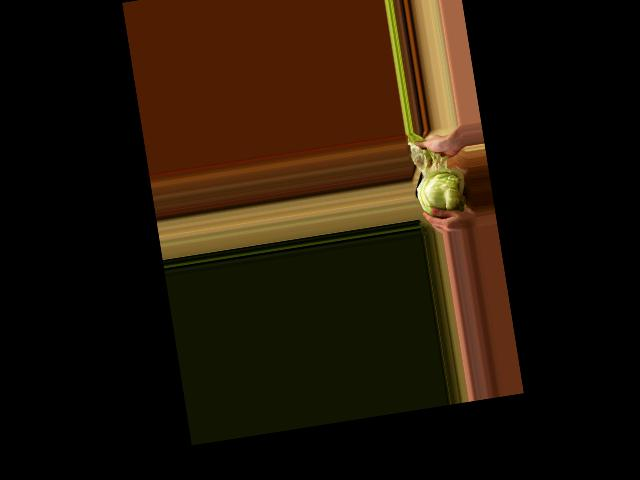lettuce: (410, 154, 472, 222)
